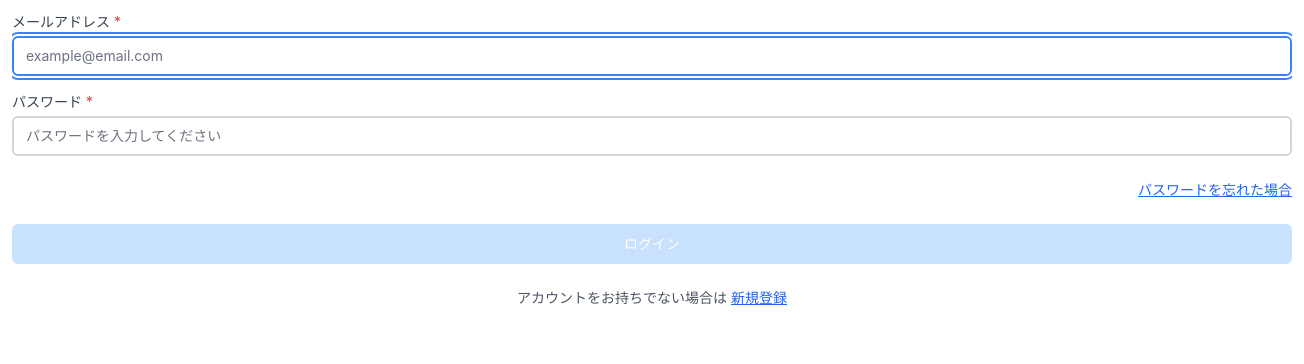
Test case: LoginForm › 空のパスワードでバリデーションエラーが表示される
# 有効なメールアドレスを入力
Type "test@example.com" into the field labelled "メールアドレス *". click: (652, 56)
box: [12,36,1292,76]
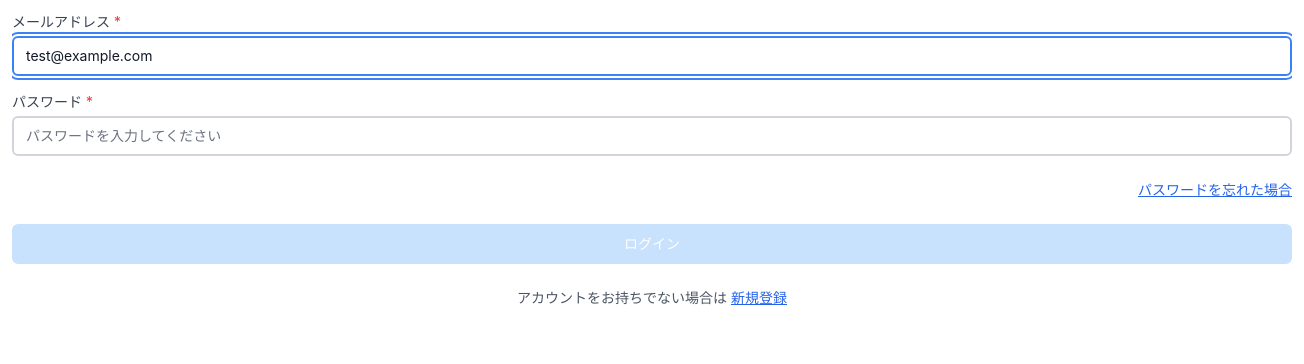
# パスワードフィールドにフォーカスを当ててから外す
Click the password field labelled "パスワード *". click: (652, 136)
box: [12,116,1292,156]
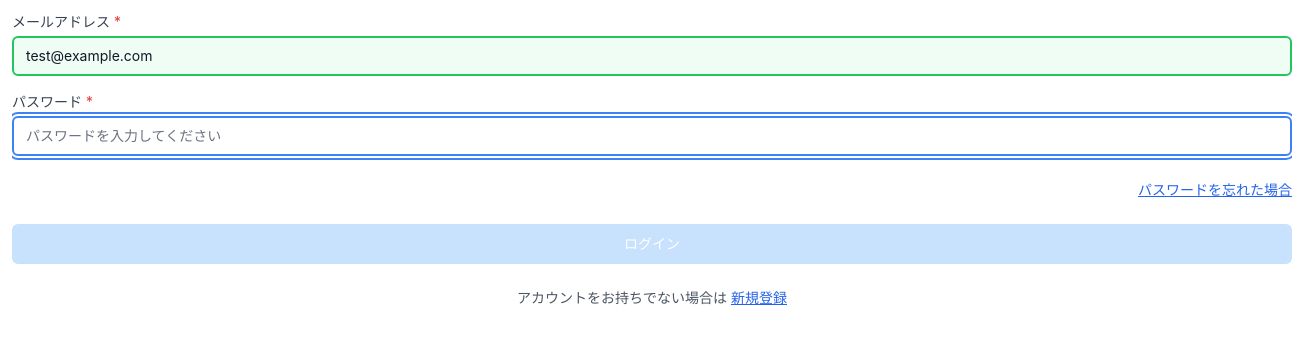
Press Tab
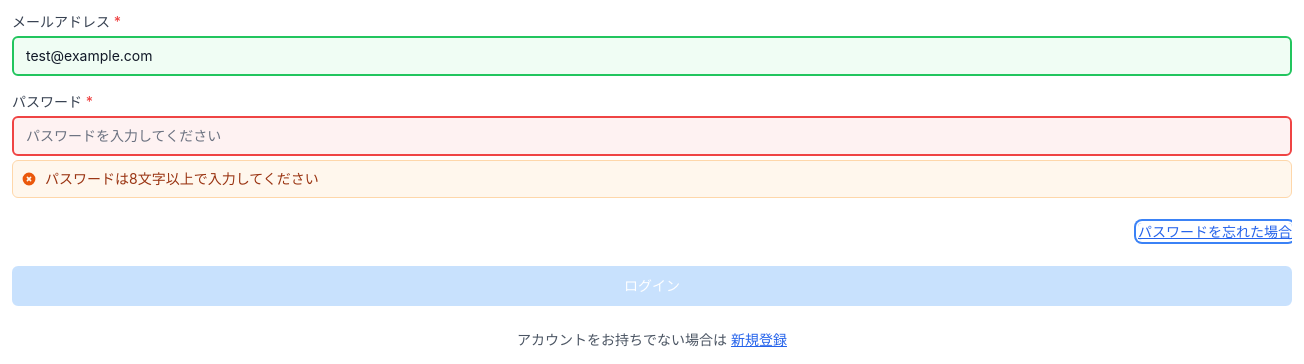
Expected: the text "パスワードは8文字以上で入力してください" is shown, [44,169,319,187]
